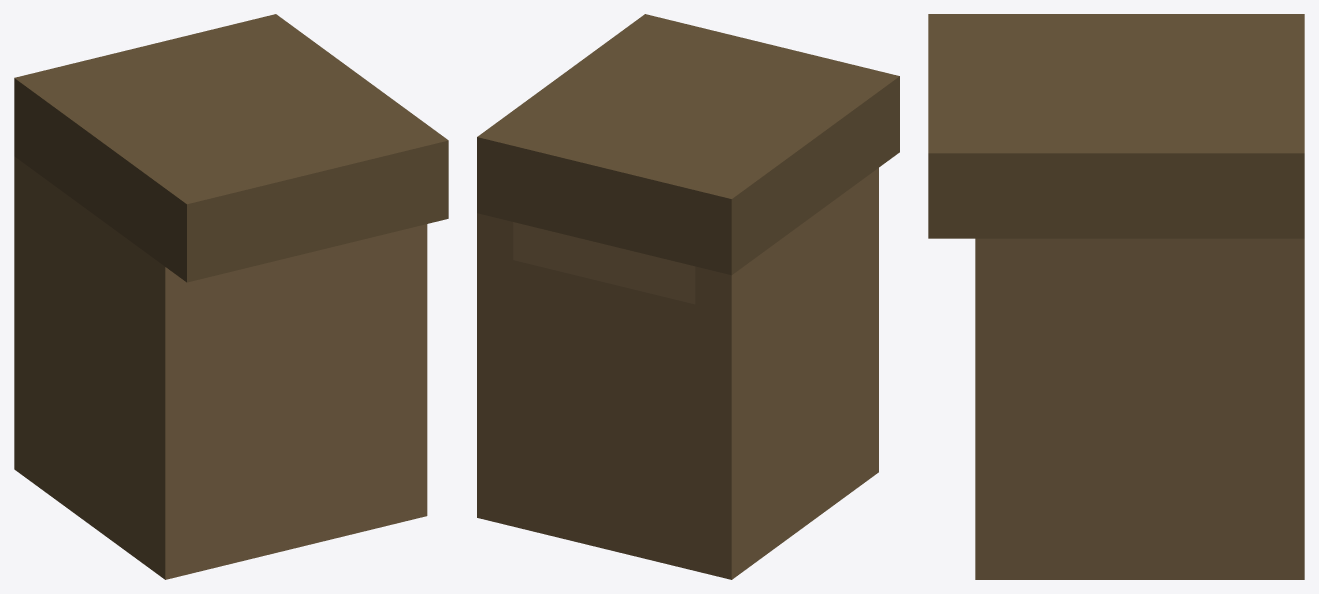
The model's file is reloj_pie_encina_01.glb.
3 renders of one model, left to right at view 1: azimuth 30°, elevation 25°; view 2: azimuth 150°, elevation 25°; view 3: azimuth 270°, elevation 25°, orthographic. The views are drawn at different scales.
Visible parts, largest first — view 1: reloj_pie_encina; view 2: reloj_pie_encina; view 3: reloj_pie_encina.
Part boxes in pixels (x1=…): reloj_pie_encina: x1=14, y1=14, x2=448, y2=579; reloj_pie_encina: x1=477, y1=14, x2=899, y2=579; reloj_pie_encina: x1=928, y1=14, x2=1304, y2=579.
Bounding box in the file's own units: 0.5 × 0.7143 × 0.5714.
